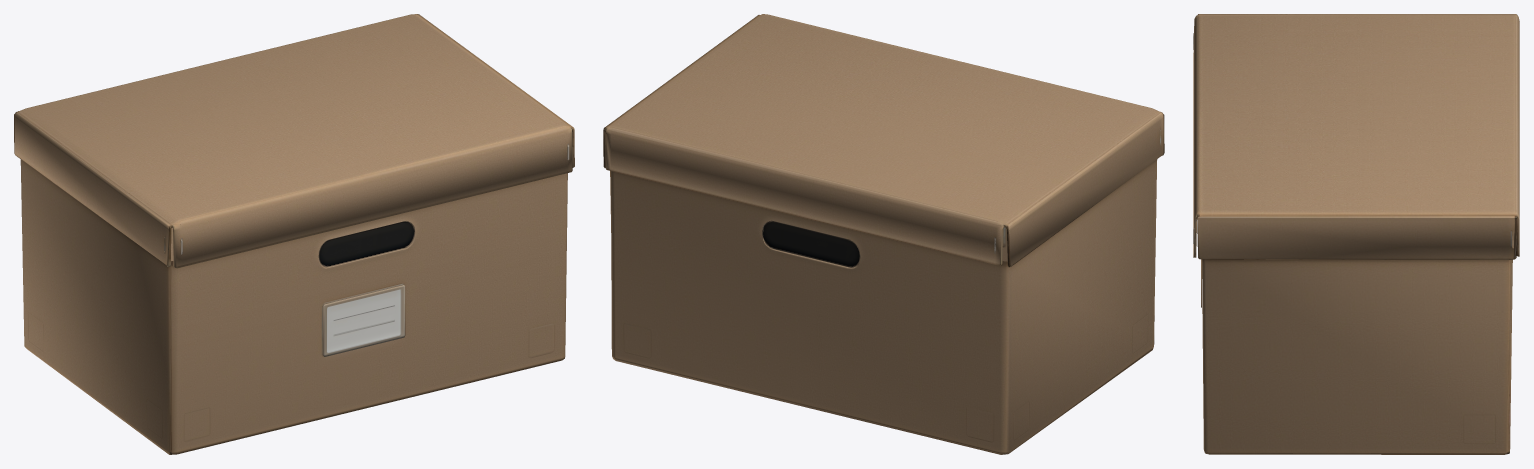
File: ENV_Box_C_v001.fbx
3 views of the same model, side by side, from view 1: azimuth 30°, elevation 25°; view 2: azimuth 150°, elevation 25°; view 3: azimuth 270°, elevation 25° (orthographic). The views are drawn at different scales.
Parts seen in each view (by area): view 1: tripo_node_428d9075-4a5f-4dc0-b136-442ddf40679b; view 2: tripo_node_428d9075-4a5f-4dc0-b136-442ddf40679b; view 3: tripo_node_428d9075-4a5f-4dc0-b136-442ddf40679b.
Part boxes in pixels (x1,y1,x2,y2): tripo_node_428d9075-4a5f-4dc0-b136-442ddf40679b: (14,14,574,454); tripo_node_428d9075-4a5f-4dc0-b136-442ddf40679b: (603,14,1164,454); tripo_node_428d9075-4a5f-4dc0-b136-442ddf40679b: (1193,14,1519,454).
Bounding box in the file's own units: 99.8 × 55.66 × 67.38.
1 material, 1 textured.
